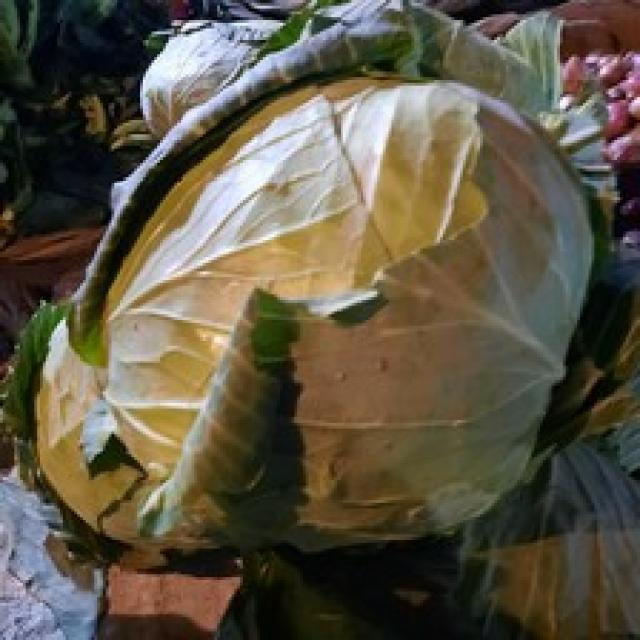Cabbage: (29, 0, 612, 557)
